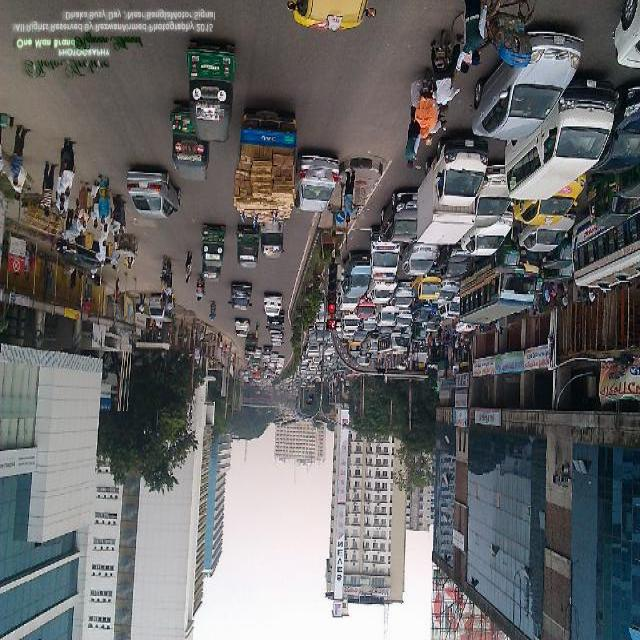black: (384, 189, 428, 243)
silver: (474, 30, 585, 139), (294, 158, 340, 212), (124, 171, 178, 215)
white: (509, 80, 620, 198), (462, 210, 514, 255), (616, 0, 640, 67), (264, 293, 282, 318)
